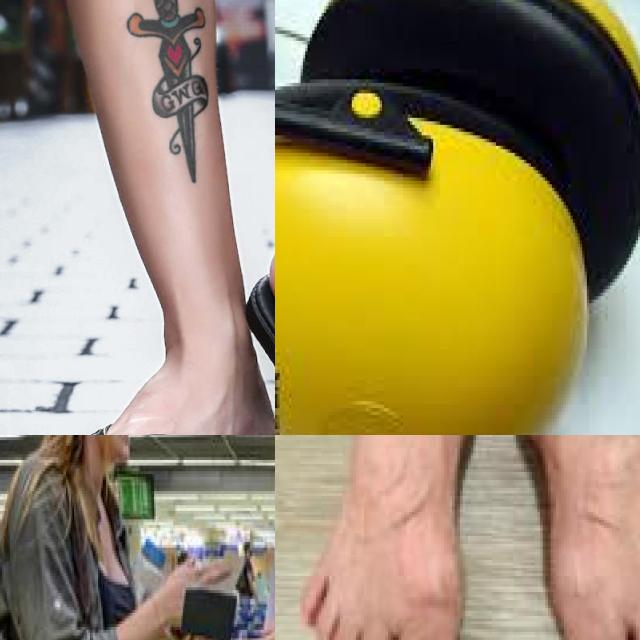Barefoots: (294, 435, 508, 640), (513, 435, 640, 640)
Ear-protection: (275, 72, 591, 435), (313, 0, 640, 276)
face_nomask: (90, 435, 139, 462)
person: (0, 435, 178, 640)
